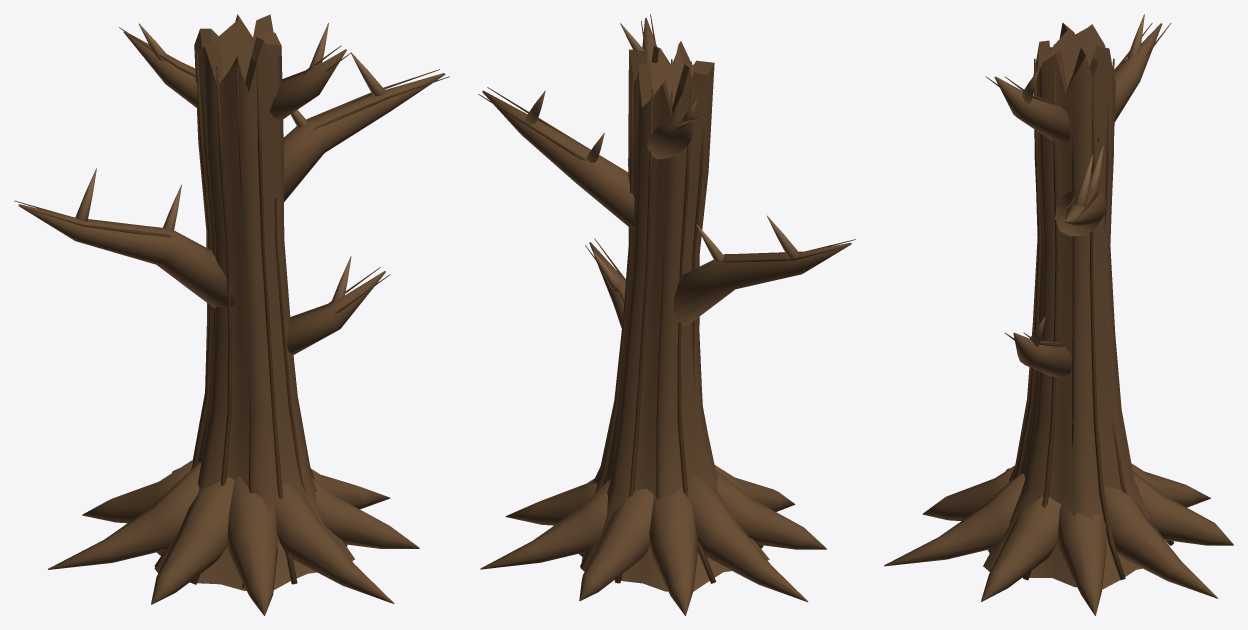
The model's file is dead_tree.glb.
The picture shows the model from 3 angles, left to right: view 1: azimuth 30°, elevation 25°; view 2: azimuth 150°, elevation 25°; view 3: azimuth 270°, elevation 25°; orthographic projection. The views are drawn at different scales.
Parts seen in each view (by area): view 1: MV_dead_tree; view 2: MV_dead_tree; view 3: MV_dead_tree.
Part boxes in pixels (x1=…): MV_dead_tree: x1=14, y1=14, x2=449, y2=615; MV_dead_tree: x1=478, y1=14, x2=855, y2=615; MV_dead_tree: x1=884, y1=14, x2=1233, y2=615.
Bounding box in the file's own units: 3.91 × 4.8 × 3.
